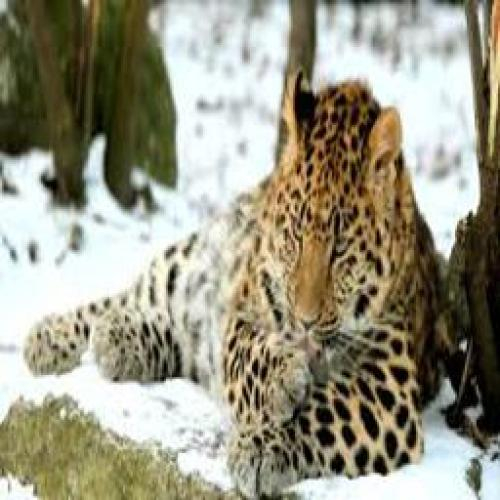amur_leopard-endangered: (27, 69, 442, 495)
